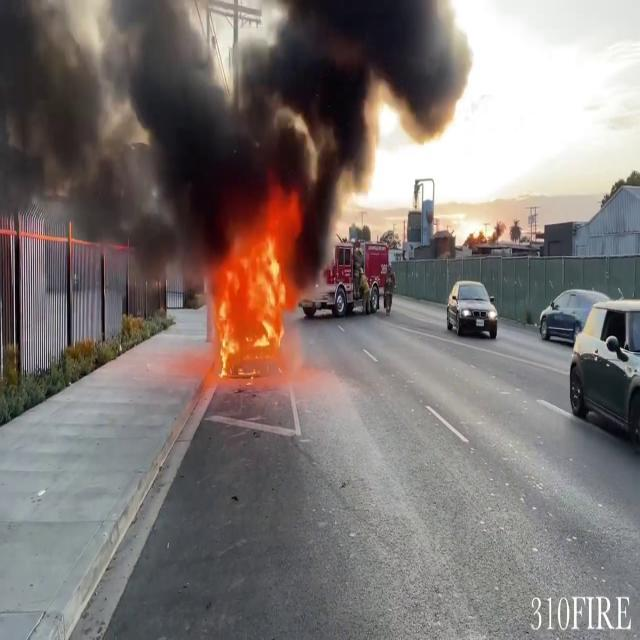Fire: (206, 197, 302, 375)
Smoke: (0, 0, 458, 246)
